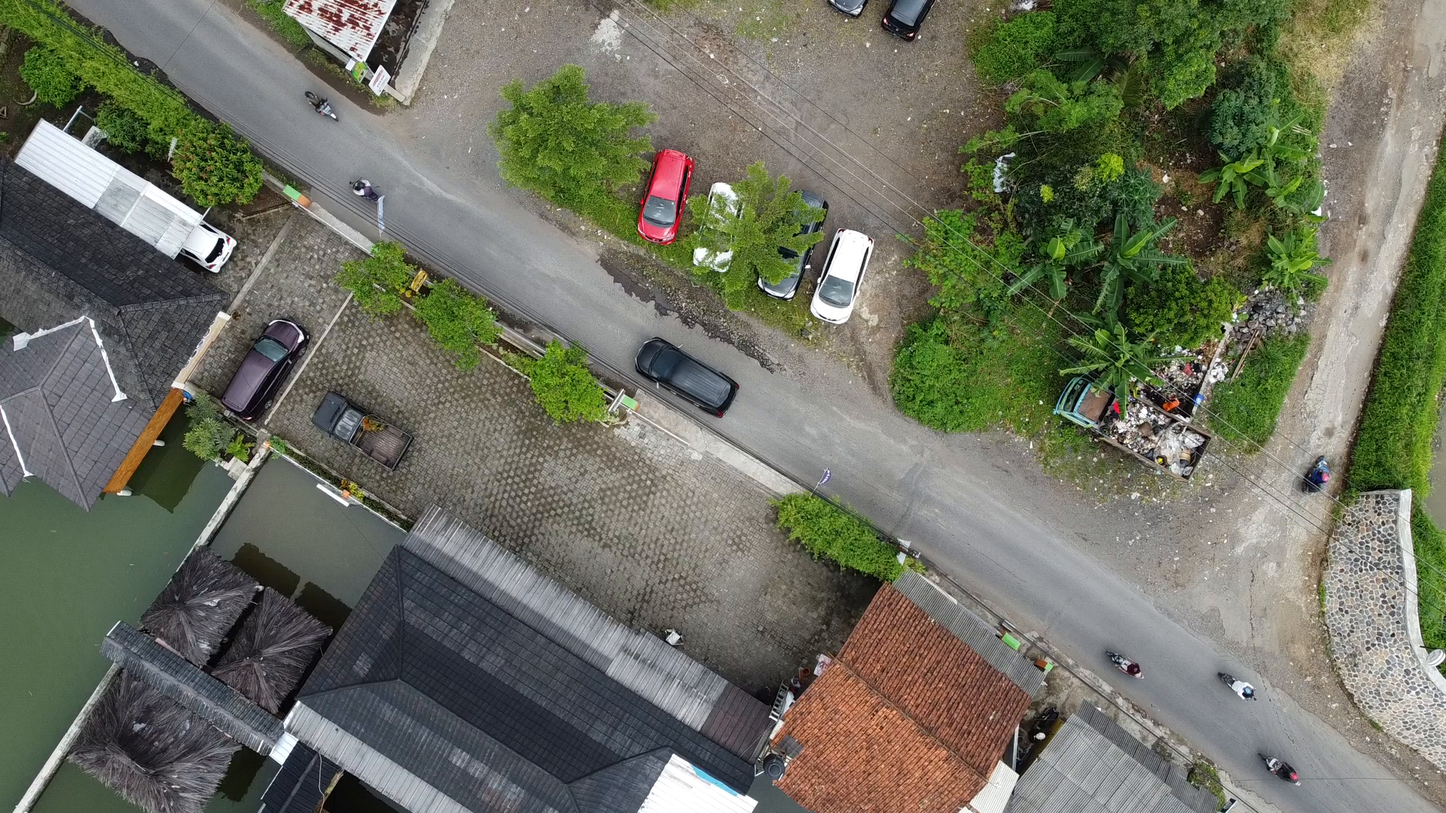mobil: (205, 310, 313, 430), (627, 325, 752, 422), (306, 381, 429, 475), (755, 173, 832, 300), (809, 219, 886, 336), (624, 139, 696, 245), (693, 175, 749, 283), (175, 199, 248, 278), (886, 1, 939, 59)
